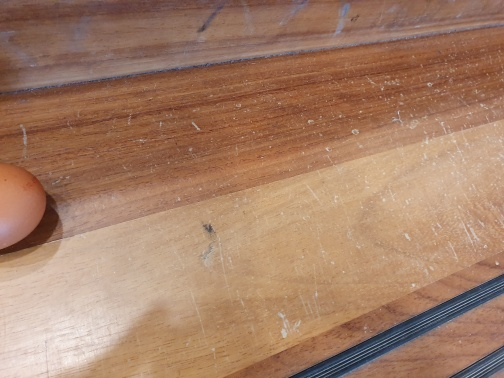egg: (1, 156, 47, 255)
